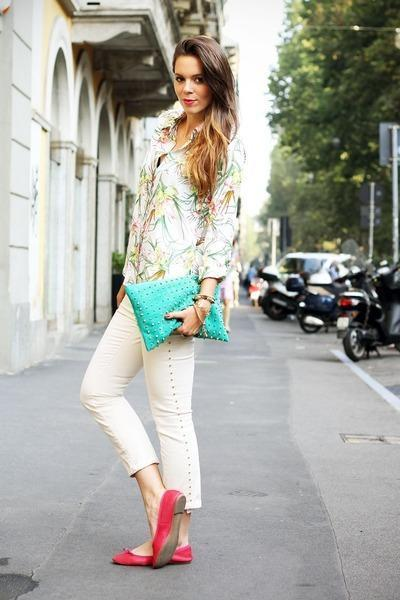bag: (132, 271, 227, 347)
pants: (80, 300, 200, 508)
shirt: (114, 101, 248, 329)
shoe: (111, 490, 191, 569)
